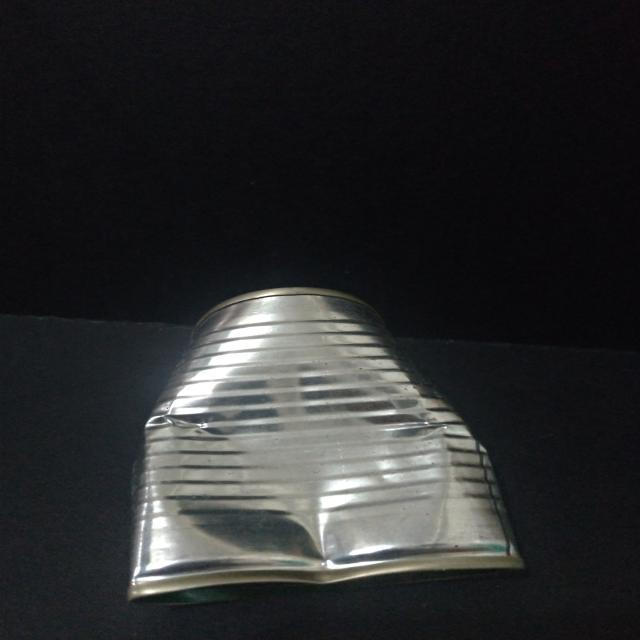metal-can: (127, 284, 530, 614)
